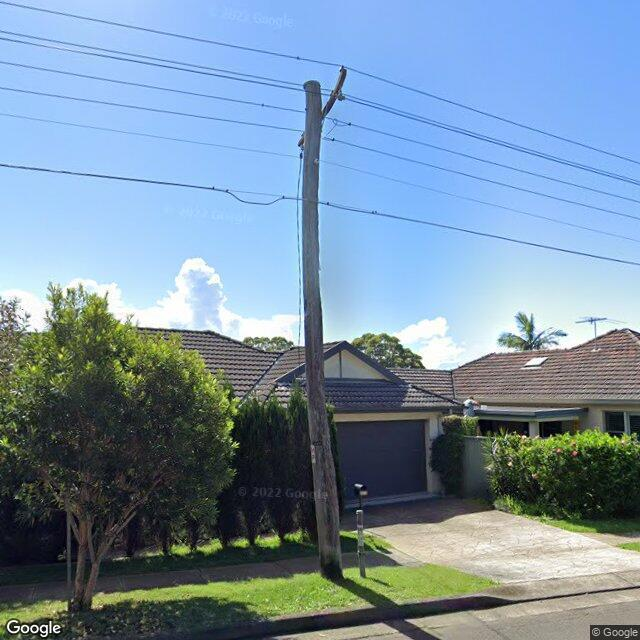crossarm: (297, 68, 347, 149)
timber-pole: (301, 80, 341, 580)
